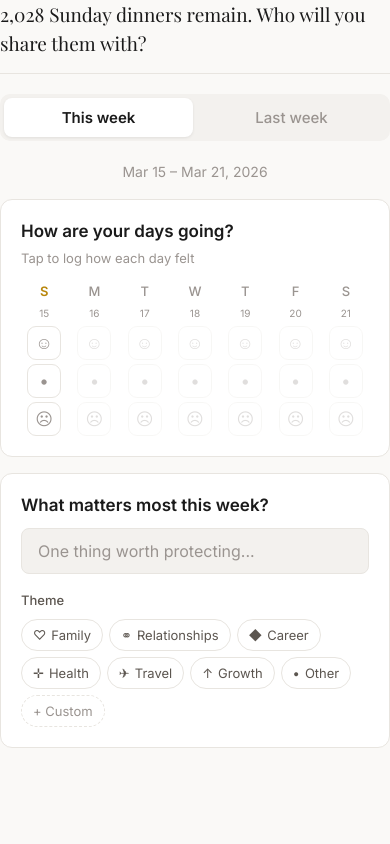
Test case: CheckIn — themes › shows a theme picker in the Last Week reflection
Step 1. Click the button "Last week" → (292, 118), box [197, 98, 386, 137]
(page scrolled)
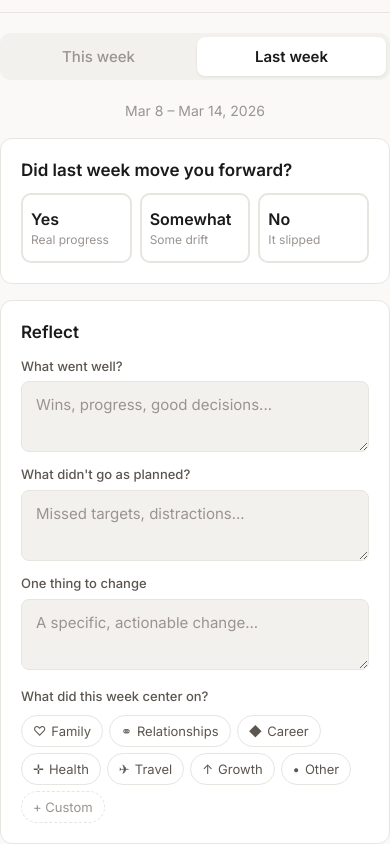
Expected: the button with test id "theme-pick-travel" is shown, [107, 753, 184, 785]
Expected: the text "What did this week center on?" is shown, [21, 688, 208, 704]
